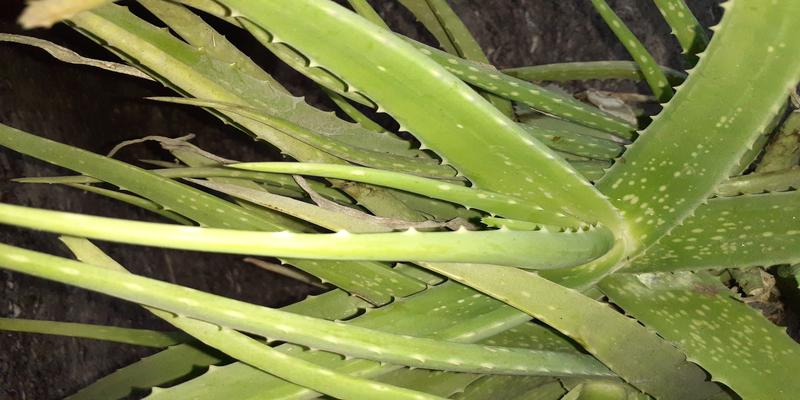Aloevera: (165, 27, 782, 385)
